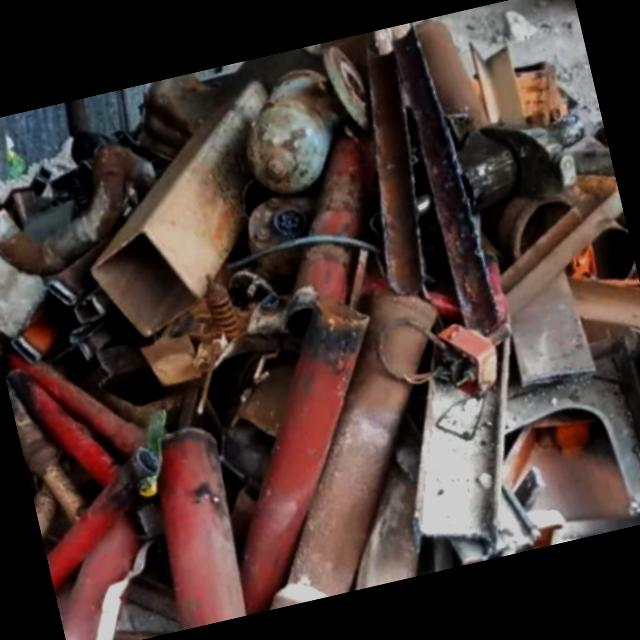Cylinders: (242, 64, 333, 196)
Shock Absorber: (195, 274, 239, 338)
